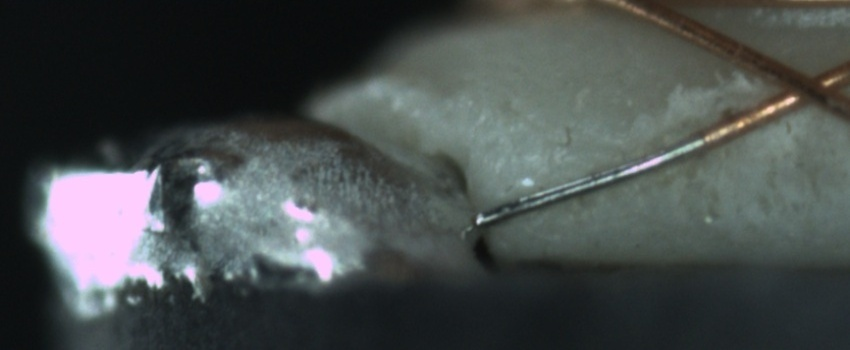CL: (752, 52, 846, 121)
TS: (479, 136, 689, 225)
